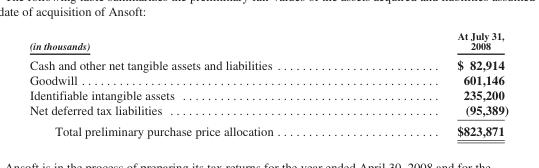table: (28, 29, 507, 137)
table column: (28, 29, 364, 137), (364, 29, 507, 137)
table column header: (28, 29, 507, 54)
table row: (28, 29, 507, 54), (28, 54, 507, 72), (28, 102, 507, 120), (28, 120, 507, 137), (28, 72, 507, 87), (28, 87, 507, 102)
